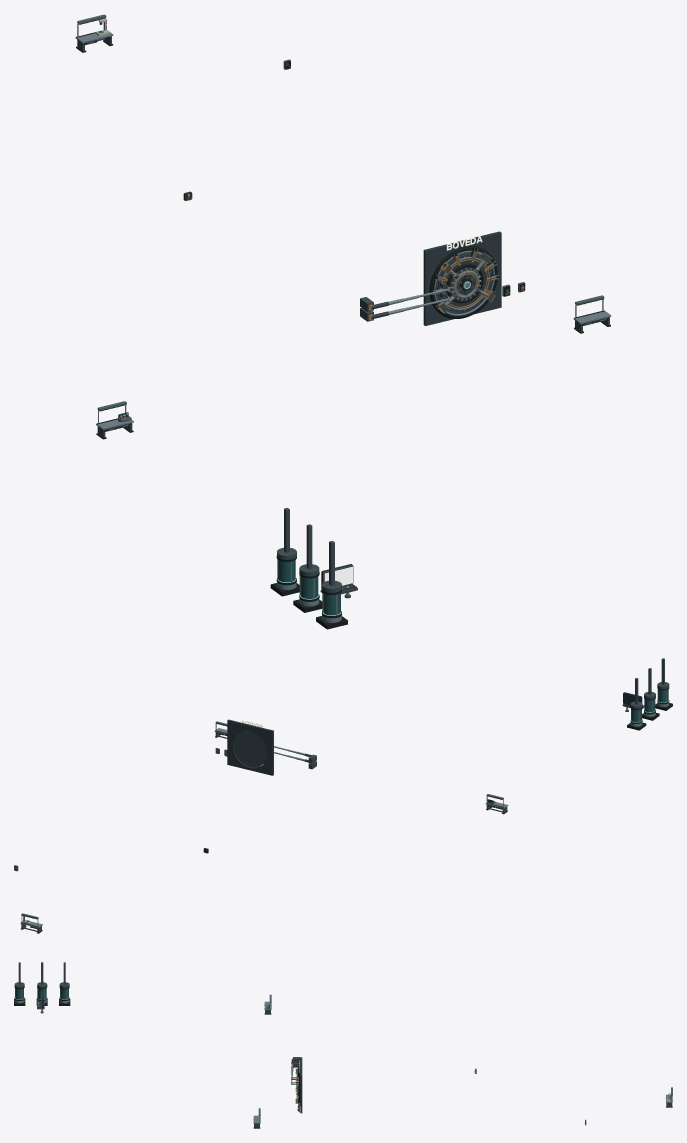
Rendered from vault.glb.
3 renders of one model, top to bottom at view 1: azimuth 30°, elevation 25°; view 2: azimuth 150°, elevation 25°; view 3: azimuth 270°, elevation 25°, orthographic. The views are drawn at different scales.
Parts seen in each view (by area): view 1: object 126, object 49; view 2: object 126, object 48; view 3: no part large enough to name.
Boxes of the visible parts, x1,y1,x2,y2 form: object 126: [423, 231, 501, 325]; object 49: [437, 254, 491, 311]; object 126: [227, 719, 273, 775]; object 48: [233, 731, 267, 767].
Bounding box in the file's own units: 56.23 × 8.26 × 120.
